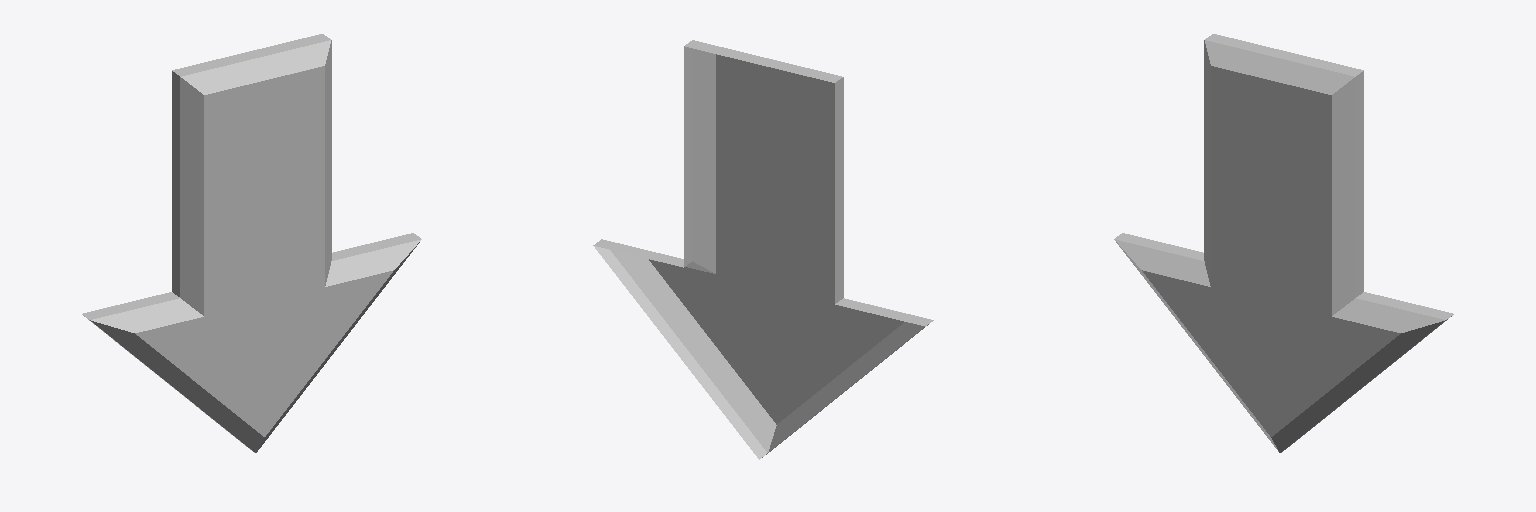
The model's file is arrow.obj.
The picture shows the model from 3 angles: view 1: azimuth 30°, elevation 25°; view 2: azimuth 150°, elevation 25°; view 3: azimuth 330°, elevation 25°; orthographic projection.
Parts seen in each view (by area): view 1: Mesh1 Group1 Model; view 2: Mesh1 Group1 Model; view 3: Mesh1 Group1 Model.
Part boxes in pixels (left/top/right/bottom): Mesh1 Group1 Model: left=82, top=34, right=421, bottom=452; Mesh1 Group1 Model: left=593, top=40, right=933, bottom=459; Mesh1 Group1 Model: left=1114, top=34, right=1453, bottom=452.
Size of the model in its own units: 11 by 12.5 by 1.